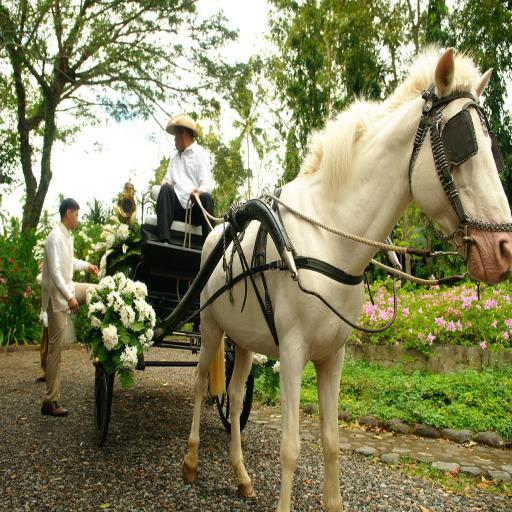Horse: (182, 39, 512, 511)
